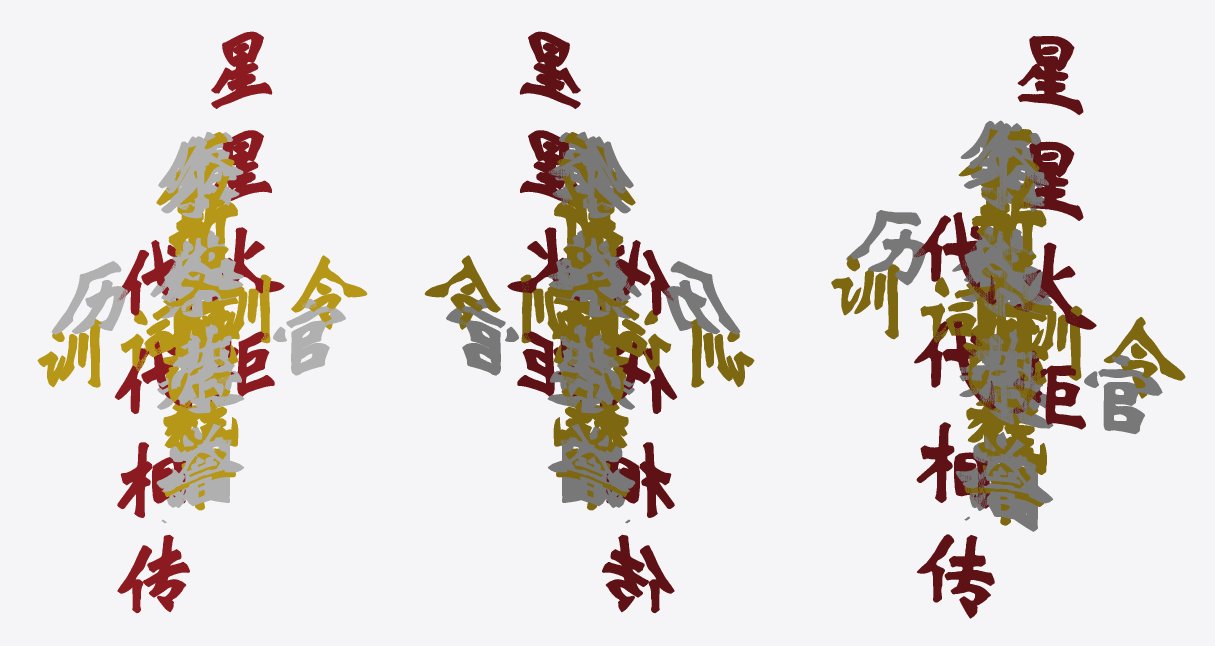
The picture shows the model from 3 angles, left to right: view 1: azimuth 30°, elevation 25°; view 2: azimuth 150°, elevation 25°; view 3: azimuth 330°, elevation 25°; orthographic projection. The views are drawn at different scales.
Visible parts, largest first — view 1: 星星火炬, 训词训令, 历任主官, 个人荣誉, 历史沿革, 新征程, 寄语, 领袖题词, 新时代, 集体荣誉; view 2: 星星火炬, 训词训令, 历任主官, 个人荣誉, 历史沿革, 新征程, 寄语, 领袖题词, 新时代, 集体荣誉; view 3: 星星火炬, 训词训令, 历任主官, 个人荣誉, 历史沿革, 新征程, 寄语, 领袖题词, 新时代, 集体荣誉.
Boxes of the visible parts, bbox=[...] form: 星星火炬: bbox=[115, 31, 284, 612]; 训词训令: bbox=[37, 255, 367, 387]; 历任主官: bbox=[51, 250, 345, 399]; 个人荣誉: bbox=[163, 136, 243, 505]; 历史沿革: bbox=[156, 132, 244, 510]; 新征程: bbox=[163, 199, 239, 451]; 寄语: bbox=[156, 141, 239, 507]; 领袖题词: bbox=[157, 132, 244, 507]; 新时代: bbox=[164, 199, 238, 450]; 集体荣誉: bbox=[161, 131, 243, 523]; 星星火炬: bbox=[507, 31, 676, 612]; 训词训令: bbox=[424, 255, 754, 387]; 历任主官: bbox=[446, 256, 740, 399]; 个人荣誉: bbox=[548, 136, 628, 505]; 历史沿革: bbox=[547, 132, 635, 510]; 新征程: bbox=[552, 192, 628, 451]; 寄语: bbox=[552, 141, 635, 507]; 领袖题词: bbox=[547, 132, 634, 507]; 新时代: bbox=[553, 195, 627, 450]; 集体荣誉: bbox=[548, 131, 630, 523]; 星星火炬: bbox=[914, 36, 1096, 618]; 训词训令: bbox=[831, 255, 1185, 398]; 历任主官: bbox=[846, 210, 1162, 434]; 个人荣誉: bbox=[963, 123, 1051, 518]; 历史沿革: bbox=[958, 128, 1053, 525]; 新征程: bbox=[966, 174, 1048, 467]; 寄语: bbox=[955, 126, 1044, 521]; 领袖题词: bbox=[959, 121, 1053, 531]; 新时代: bbox=[967, 171, 1046, 474]; 集体荣誉: bbox=[962, 120, 1052, 520].
Size of the model in its own units: 2.95 by 4.43 by 0.0434.
